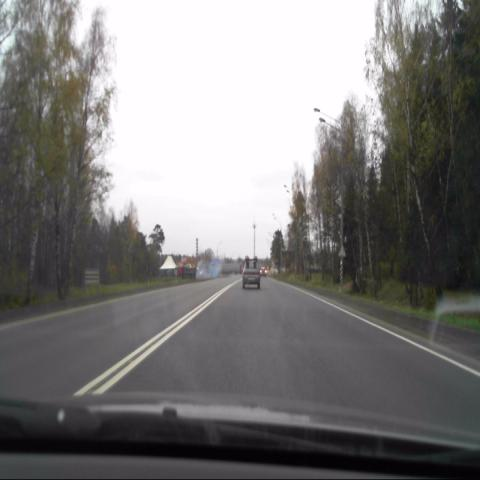1_7: (337, 243, 348, 259)
